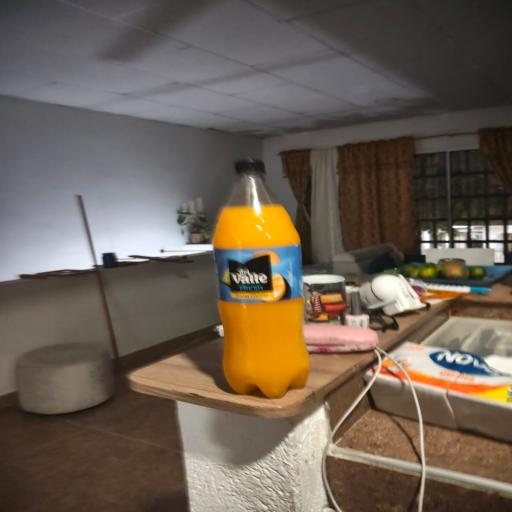Jugo del valle: (195, 154, 339, 413)
